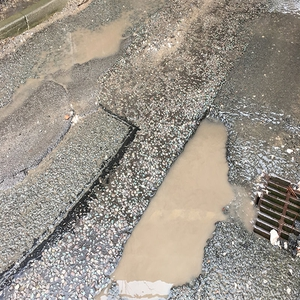pothole: (106, 103, 252, 300)
